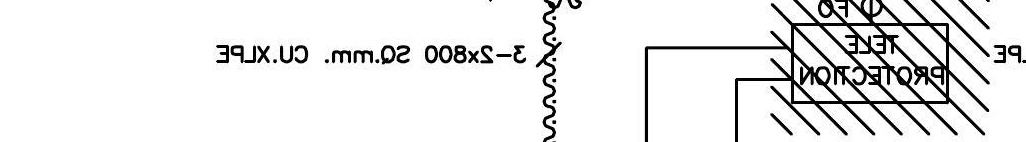tele_protection: (788, 20, 952, 107)
